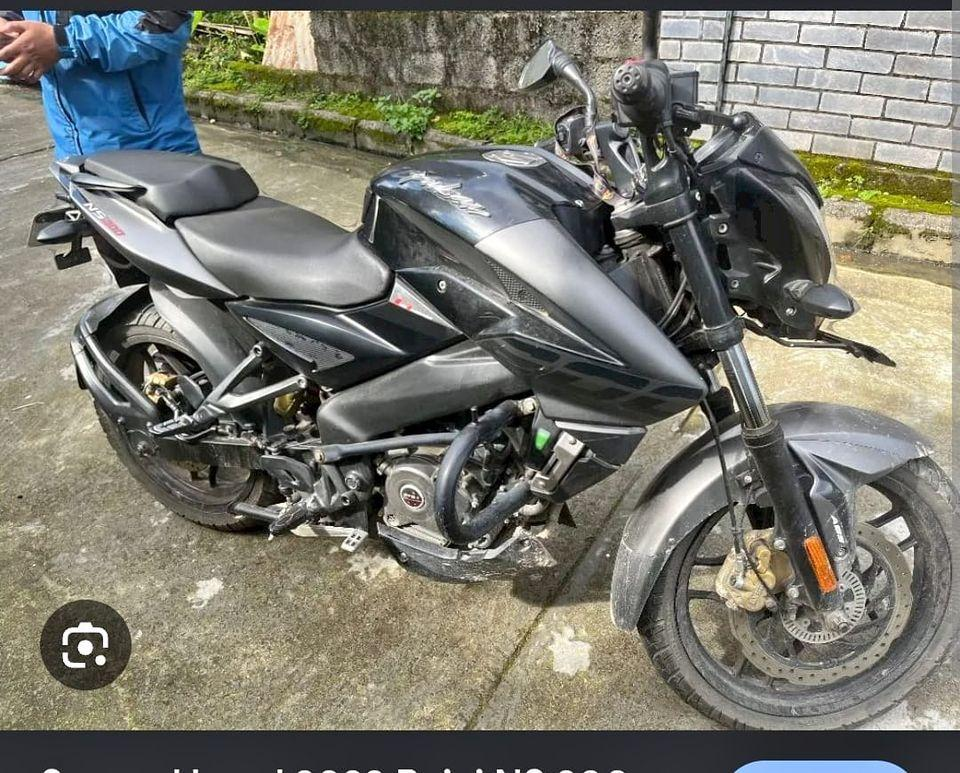bike: (33, 42, 960, 718)
